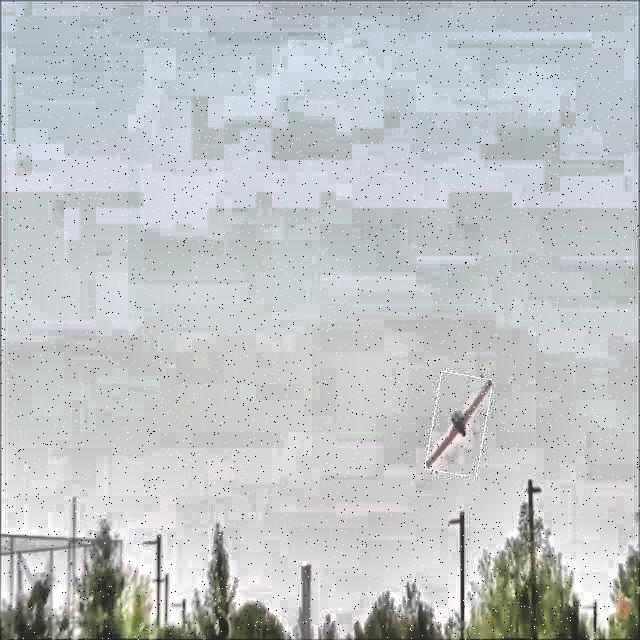iha: (451, 398, 456, 454)
